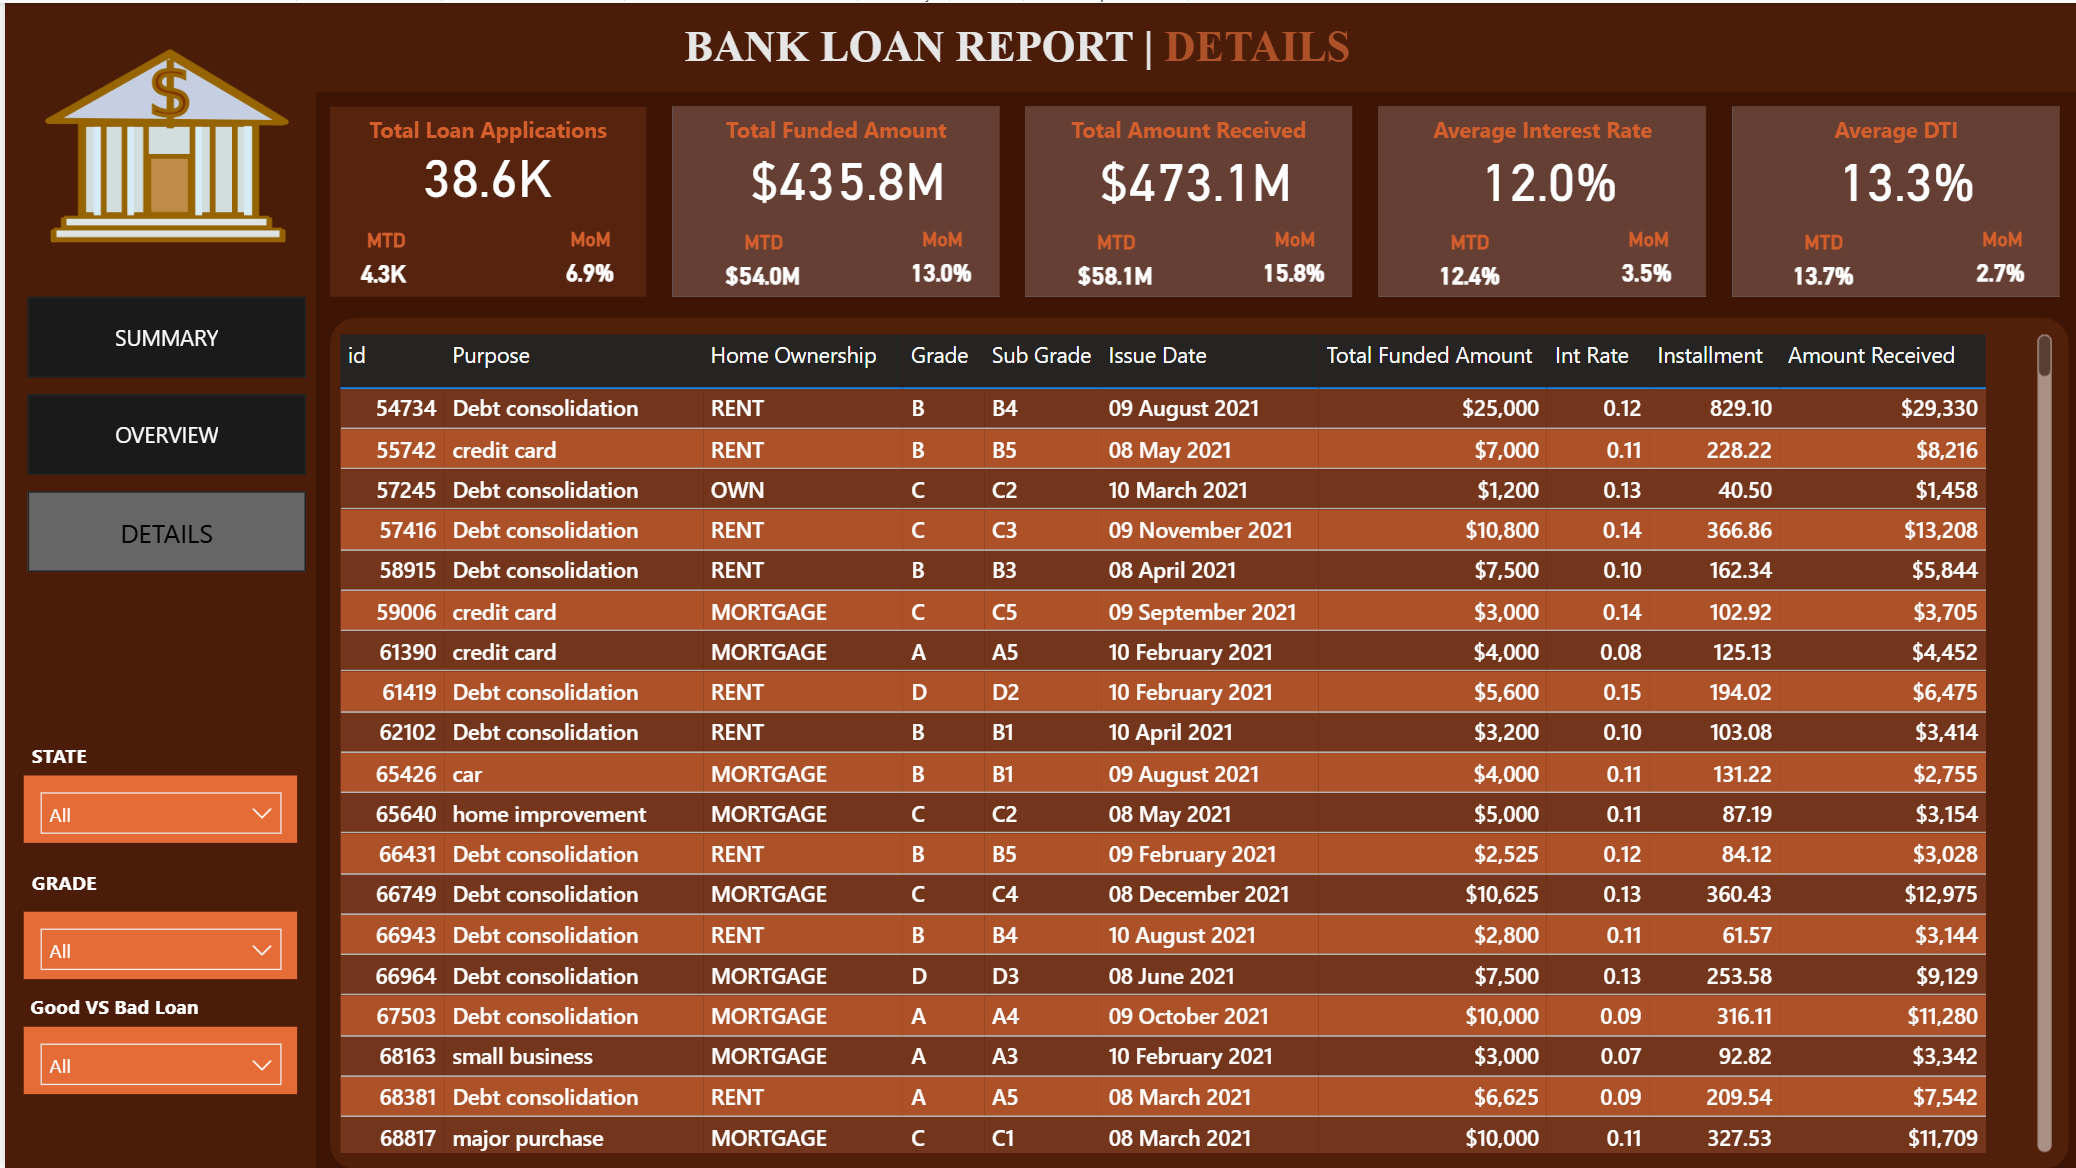

Layout of this report page (visuals, bound fields, positions):
{"tool":"powerbi","page":{"name":"DETAILS","canvas":[1280,720],"ordinal":2},"visuals":[{"type":"shape","box":[0,0,1279.8,55],"z":0},{"type":"shape","box":[0,54.8,192,665.4],"z":1000},{"type":"textbox","box":[414.5,6.9,467.8,42.5],"z":2000},{"type":"group","id":"g1","title":"Group 1","box":[200.7,64.1,195.3,117.3],"z":3000},{"type":"shape","box":[200.7,64.1,195.3,117.3],"z":3000,"group":"g1"},{"type":"shape","box":[411.9,64.1,202.2,117.3],"z":3000,"group":"g2"},{"type":"shape","box":[630.1,64.1,202.2,117.3],"z":3000,"group":"g3"},{"type":"shape","box":[848.3,64.1,202.2,117.3],"z":3000,"group":"g4"},{"type":"shape","box":[1066.5,64.1,202.2,117.3],"z":3000,"group":"g5"},{"type":"group","id":"g2","title":"Group 1","box":[411.9,64.1,202.2,117.3],"z":4000},{"type":"advanceCardE03760C5AB684758B56AA29F9E6C257B","fields":{"mainMeasure":["bank_loan_data.Total Loan Applications"]},"box":[235.4,91.9,125.8,34],"z":4000,"group":"g1"},{"type":"advanceCardE03760C5AB684758B56AA29F9E6C257B","fields":{"mainMeasure":["bank_loan_data.Total Funded Amount"]},"box":[443.6,92.6,153.6,36.3],"z":4000,"group":"g2"},{"type":"advanceCardE03760C5AB684758B56AA29F9E6C257B","fields":{"mainMeasure":["bank_loan_data.Total Amount Received"]},"box":[663.2,92.6,145.1,37.8],"z":4000,"group":"g3"},{"type":"advanceCardE03760C5AB684758B56AA29F9E6C257B","fields":{"mainMeasure":["bank_loan_data.Avg Interest Rate"]},"box":[879.7,92.6,147.4,37.8],"z":4000,"group":"g4"},{"type":"advanceCardE03760C5AB684758B56AA29F9E6C257B","fields":{"mainMeasure":["bank_loan_data.Avg DTI"]},"box":[1102.4,92.6,142.8,37.8],"z":4000,"group":"g5"},{"type":"textbox","box":[200.7,64.1,195.3,27.8],"z":5000,"group":"g1"},{"type":"textbox","box":[411.9,64.1,202.2,27.8],"z":5000,"group":"g2"},{"type":"group","id":"g3","title":"Group 1","box":[630.1,64.1,202.2,117.3],"z":5000},{"type":"textbox","box":[630.1,64.1,202.2,27.8],"z":5000,"group":"g3"},{"type":"textbox","box":[848.3,64.1,202.2,27.8],"z":5000,"group":"g4"},{"type":"textbox","box":[1066.5,64.1,202.2,27.8],"z":5000,"group":"g5"},{"type":"group","id":"g4","title":"Group 1","box":[848.3,64.1,202.2,117.3],"z":6000},{"type":"advanceCardE03760C5AB684758B56AA29F9E6C257B","title":"MTD","fields":{"mainMeasure":["bank_loan_data.MTD Loan Applications"]},"box":[213,139.7,44.8,41.7],"z":6000,"group":"g1"},{"type":"advanceCardE03760C5AB684758B56AA29F9E6C257B","title":"MTD","fields":{"mainMeasure":["bank_loan_data.MTD Funded Amount"]},"box":[424.1,140.5,88,40.9],"z":6000,"group":"g2"},{"type":"advanceCardE03760C5AB684758B56AA29F9E6C257B","title":"MTD","fields":{"mainMeasure":["bank_loan_data.MTD Total Amount Received"]},"box":[642.3,140.5,88,40.9],"z":6000,"group":"g3"},{"type":"advanceCardE03760C5AB684758B56AA29F9E6C257B","title":"MTD","fields":{"mainMeasure":["bank_loan_data.MTD Avg Interest Rate"]},"box":[860.5,140.5,88,40.9],"z":6000,"group":"g4"},{"type":"advanceCardE03760C5AB684758B56AA29F9E6C257B","title":"MTD","fields":{"mainMeasure":["bank_loan_data.MTD Avg DTI"]},"box":[1078.7,140.5,88,40.9],"z":6000,"group":"g5"},{"type":"group","id":"g5","title":"Group 1","box":[1066.5,64.1,202.2,117.3],"z":7000},{"type":"advanceCardE03760C5AB684758B56AA29F9E6C257B","title":"MoM","fields":{"mainMeasure":["bank_loan_data.MoM Loan Applications"]},"box":[330.4,139,62.5,42.5],"z":7000,"group":"g1"},{"type":"advanceCardE03760C5AB684758B56AA29F9E6C257B","title":"MoM","fields":{"mainMeasure":["bank_loan_data.MoM Funded Amount"]},"box":[546.2,139,64.7,42.5],"z":7000,"group":"g2"},{"type":"advanceCardE03760C5AB684758B56AA29F9E6C257B","title":"MoM","fields":{"mainMeasure":["bank_loan_data.MoM Amount Received"]},"box":[764.4,139,64.7,42.5],"z":7000,"group":"g3"},{"type":"advanceCardE03760C5AB684758B56AA29F9E6C257B","title":"MoM","fields":{"mainMeasure":["bank_loan_data.MoM Interest Rate"]},"box":[982.6,139,64.7,42.5],"z":7000,"group":"g4"},{"type":"advanceCardE03760C5AB684758B56AA29F9E6C257B","title":"MoM","fields":{"mainMeasure":["bank_loan_data.MoM DTI"]},"box":[1200.8,139,64.7,42.5],"z":7000,"group":"g5"},{"type":"shape","box":[200.7,194.5,1073.7,525.6],"z":8000},{"type":"slicer","fields":{"Values":["bank_loan_data.address_state"]},"box":[11.6,477,169,41.7],"z":9000},{"type":"textbox","box":[11.6,450,144.3,32.4],"z":10000},{"type":"slicer","fields":{"Values":["bank_loan_data.grade"]},"box":[11.6,561.2,169,41.7],"z":11000},{"type":"textbox","box":[11.6,528.7,144.3,32.4],"z":12000},{"type":"slicer","fields":{"Values":["bank_loan_data.Good vs Bad Loan"]},"box":[11.6,632.2,169,41.7],"z":13000},{"type":"textbox","box":[10.8,605.1,144.3,32.4],"z":14000},{"type":"tableEx","fields":{"Values":["bank_loan_data.id","bank_loan_data.purpose","bank_loan_data.home_ownership","bank_loan_data.grade","bank_loan_data.sub_grade","bank_loan_data.issue_date","bank_loan_data.Total Funded Amount","Sum(bank_loan_data.int_rate)","Sum(bank_loan_data.installment)","bank_loan_data.Total Amount Received"]},"box":[200.7,199.9,1068.3,514.8],"z":17000},{"type":"image","box":[20.8,28.6,158.2,118.9],"z":17001},{"type":"pageNavigator","box":[13.9,181.4,172.9,172.1],"z":17002}]}

Visuals, with their boxes in screenshot pixels (x1, y1, x2, y2), scaled from the page's 1280x720 canvas onto the 2076x1168 screenshot:
shape: bbox=[0, 0, 2075, 89]
shape: bbox=[0, 89, 311, 1167]
textbox: bbox=[672, 11, 1431, 80]
"Group 1" group: bbox=[326, 104, 642, 294]
shape: bbox=[326, 104, 642, 294]
shape: bbox=[668, 104, 996, 294]
shape: bbox=[1022, 104, 1350, 294]
shape: bbox=[1376, 104, 1704, 294]
shape: bbox=[1730, 104, 2058, 294]
"Group 1" group: bbox=[668, 104, 996, 294]
advanceCardE03760C5AB684758B56AA29F9E6C257B - bank_loan_data.Total Loan Applications: bbox=[382, 149, 586, 204]
advanceCardE03760C5AB684758B56AA29F9E6C257B - bank_loan_data.Total Funded Amount: bbox=[719, 150, 969, 209]
advanceCardE03760C5AB684758B56AA29F9E6C257B - bank_loan_data.Total Amount Received: bbox=[1076, 150, 1311, 212]
advanceCardE03760C5AB684758B56AA29F9E6C257B - bank_loan_data.Avg Interest Rate: bbox=[1427, 150, 1666, 212]
advanceCardE03760C5AB684758B56AA29F9E6C257B - bank_loan_data.Avg DTI: bbox=[1788, 150, 2020, 212]
textbox: bbox=[326, 104, 642, 149]
textbox: bbox=[668, 104, 996, 149]
"Group 1" group: bbox=[1022, 104, 1350, 294]
textbox: bbox=[1022, 104, 1350, 149]
textbox: bbox=[1376, 104, 1704, 149]
textbox: bbox=[1730, 104, 2058, 149]
"Group 1" group: bbox=[1376, 104, 1704, 294]
"MTD" advanceCardE03760C5AB684758B56AA29F9E6C257B: bbox=[345, 227, 418, 294]
"MTD" advanceCardE03760C5AB684758B56AA29F9E6C257B: bbox=[688, 228, 831, 294]
"MTD" advanceCardE03760C5AB684758B56AA29F9E6C257B: bbox=[1042, 228, 1184, 294]
"MTD" advanceCardE03760C5AB684758B56AA29F9E6C257B: bbox=[1396, 228, 1538, 294]
"MTD" advanceCardE03760C5AB684758B56AA29F9E6C257B: bbox=[1750, 228, 1892, 294]
"Group 1" group: bbox=[1730, 104, 2058, 294]
"MoM" advanceCardE03760C5AB684758B56AA29F9E6C257B: bbox=[536, 225, 637, 294]
"MoM" advanceCardE03760C5AB684758B56AA29F9E6C257B: bbox=[886, 225, 991, 294]
"MoM" advanceCardE03760C5AB684758B56AA29F9E6C257B: bbox=[1240, 225, 1345, 294]
"MoM" advanceCardE03760C5AB684758B56AA29F9E6C257B: bbox=[1594, 225, 1699, 294]
"MoM" advanceCardE03760C5AB684758B56AA29F9E6C257B: bbox=[1948, 225, 2052, 294]
shape: bbox=[326, 316, 2067, 1167]
slicer - bank_loan_data.address_state: bbox=[19, 774, 293, 841]
textbox: bbox=[19, 730, 253, 783]
slicer - bank_loan_data.grade: bbox=[19, 910, 293, 978]
textbox: bbox=[19, 858, 253, 910]
slicer - bank_loan_data.Good vs Bad Loan: bbox=[19, 1026, 293, 1093]
textbox: bbox=[18, 982, 252, 1034]
tableEx - bank_loan_data.id x bank_loan_data.purpose: bbox=[326, 324, 2058, 1159]
image: bbox=[34, 46, 290, 239]
pageNavigator: bbox=[23, 294, 303, 573]
